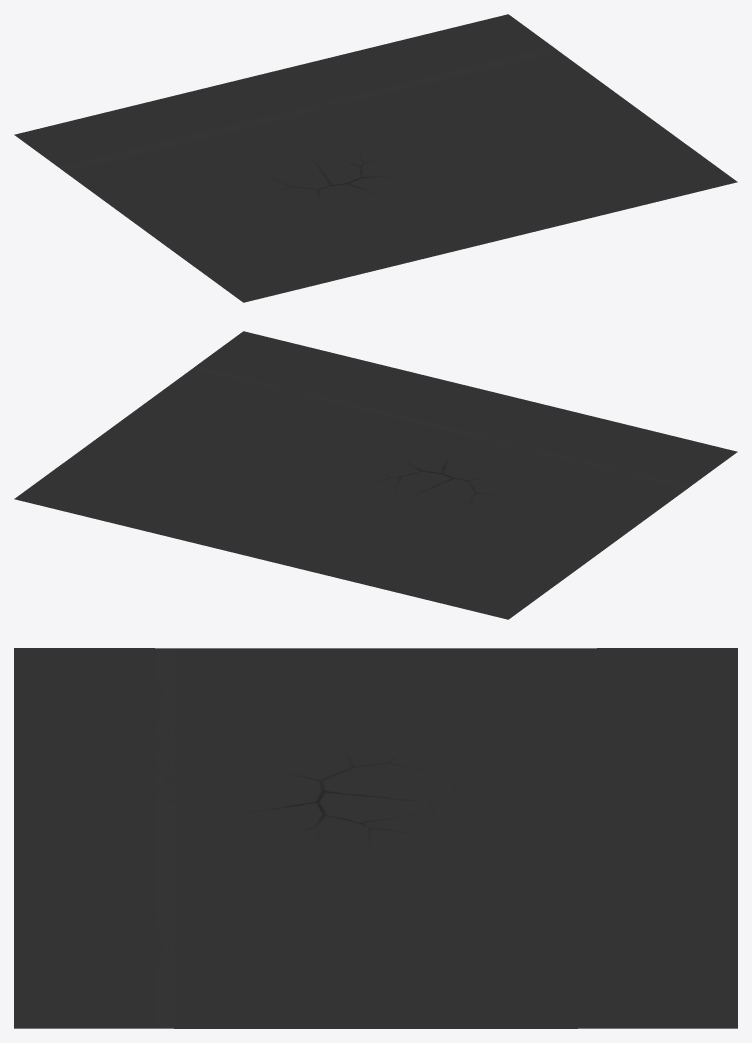
File: Road_Short_Flat.fbx
The picture shows the model from 3 angles, top to bottom: view 1: azimuth 30°, elevation 25°; view 2: azimuth 150°, elevation 25°; view 3: azimuth 270°, elevation 25°; orthographic projection. The views are drawn at different scales.
Visible parts, largest first — view 1: Road_Short001; view 2: Road_Short001; view 3: Road_Short001.
Part boxes in pixels (left/top/right/bottom): Road_Short001: left=14, top=14, right=737, bottom=302; Road_Short001: left=14, top=331, right=737, bottom=619; Road_Short001: left=14, top=648, right=737, bottom=1028.
Bounding box in the file's own units: 702 × 565 × 0.1106.
